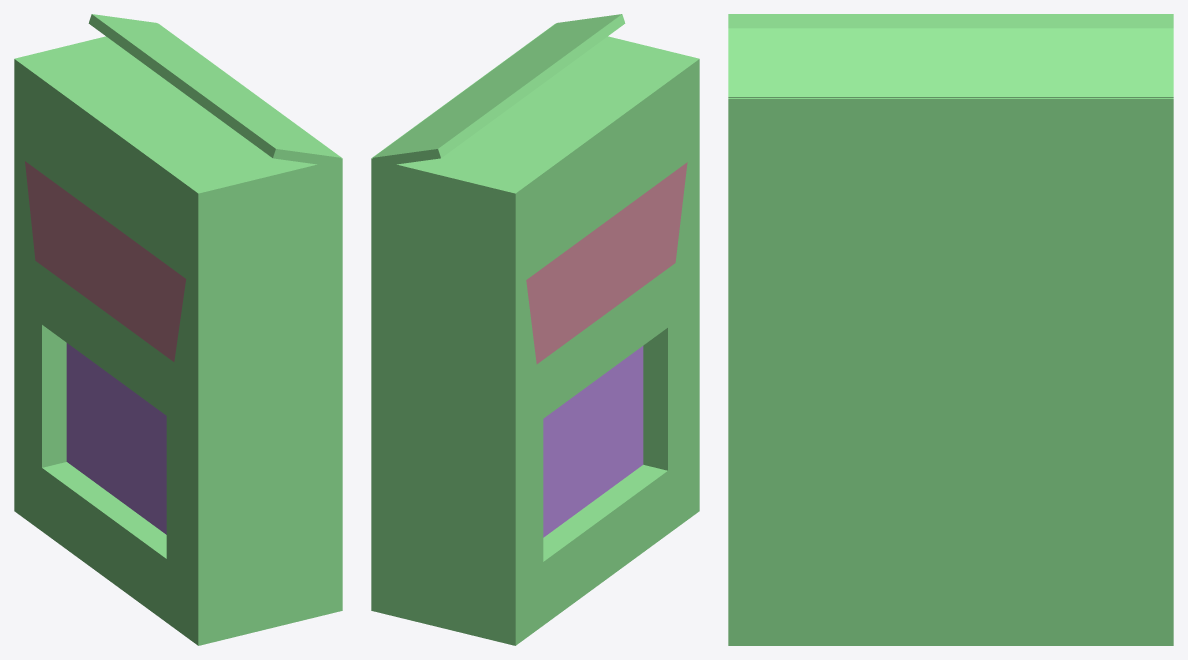
The model's file is Pack.FBX.
3 views of the same model, side by side, from view 1: azimuth 30°, elevation 25°; view 2: azimuth 150°, elevation 25°; view 3: azimuth 270°, elevation 25° (orthographic). The views are drawn at different scales.
Parts seen in each view (by area): view 1: Pâtes; view 2: Pâtes; view 3: Pâtes.
Boxes of the visible parts, x1=… form: Pâtes: x1=14, y1=14, x2=342, y2=645; Pâtes: x1=371, y1=14, x2=699, y2=645; Pâtes: x1=728, y1=14, x2=1173, y2=645.
Bounding box in the file's own units: 0.6364 × 2.01 × 1.41.
